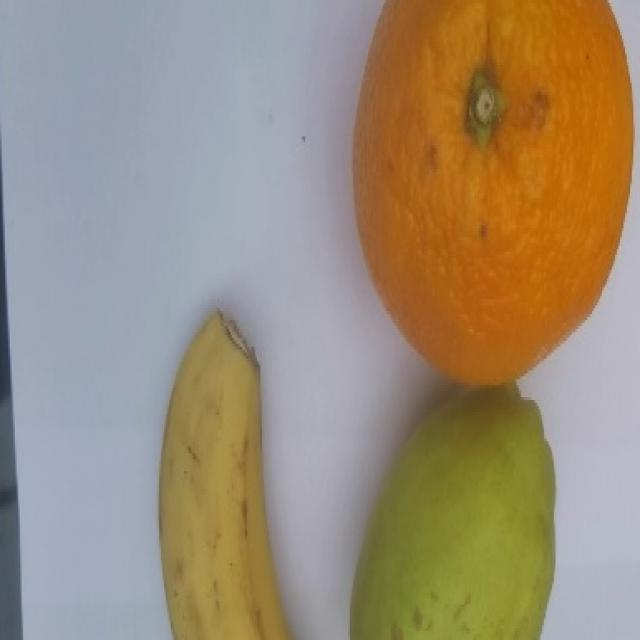Banana: (157, 306, 292, 639)
Orange: (351, 0, 634, 387)
